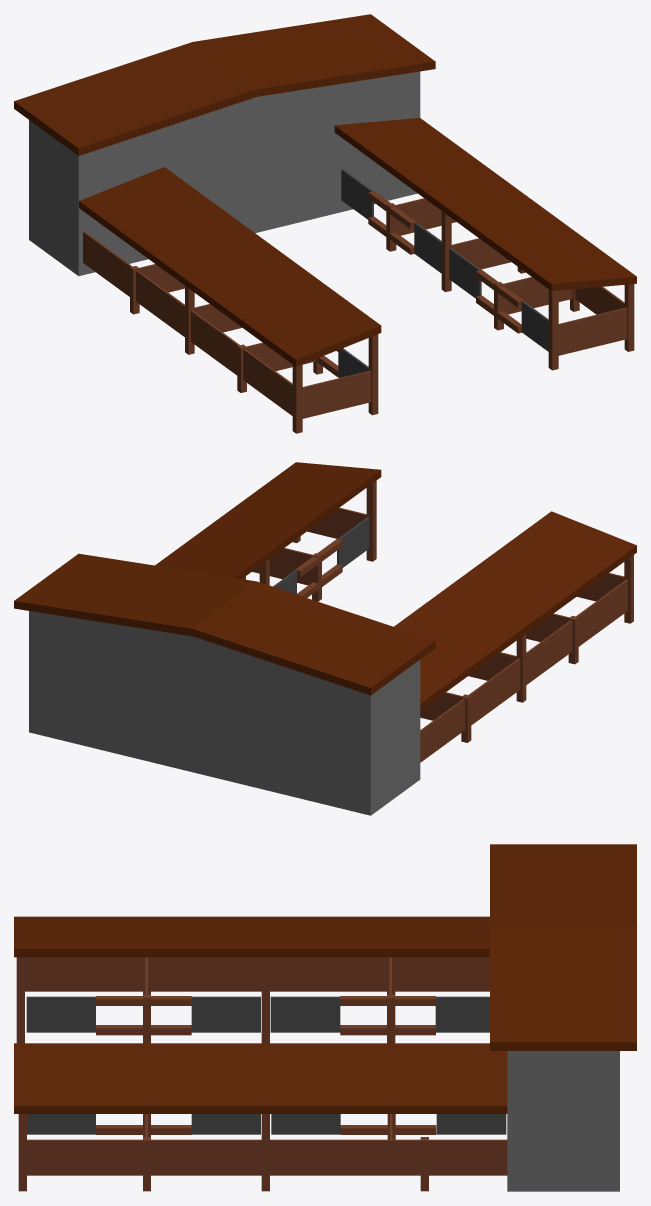
The model's file is cavarlyBuilding.fbx.
The picture shows the model from 3 angles, top to bottom: view 1: azimuth 30°, elevation 25°; view 2: azimuth 150°, elevation 25°; view 3: azimuth 270°, elevation 25°; orthographic projection. The views are drawn at different scales.
Parts seen in each view (by area): view 1: Cube.011; view 2: Cube.011; view 3: Cube.011.
Part boxes in pixels (x1,y1,x2,y2): Cube.011: [14, 14, 636, 433]; Cube.011: [14, 462, 636, 815]; Cube.011: [14, 844, 636, 1191].
Bounding box in the file's own units: 832 × 336 × 1106.
